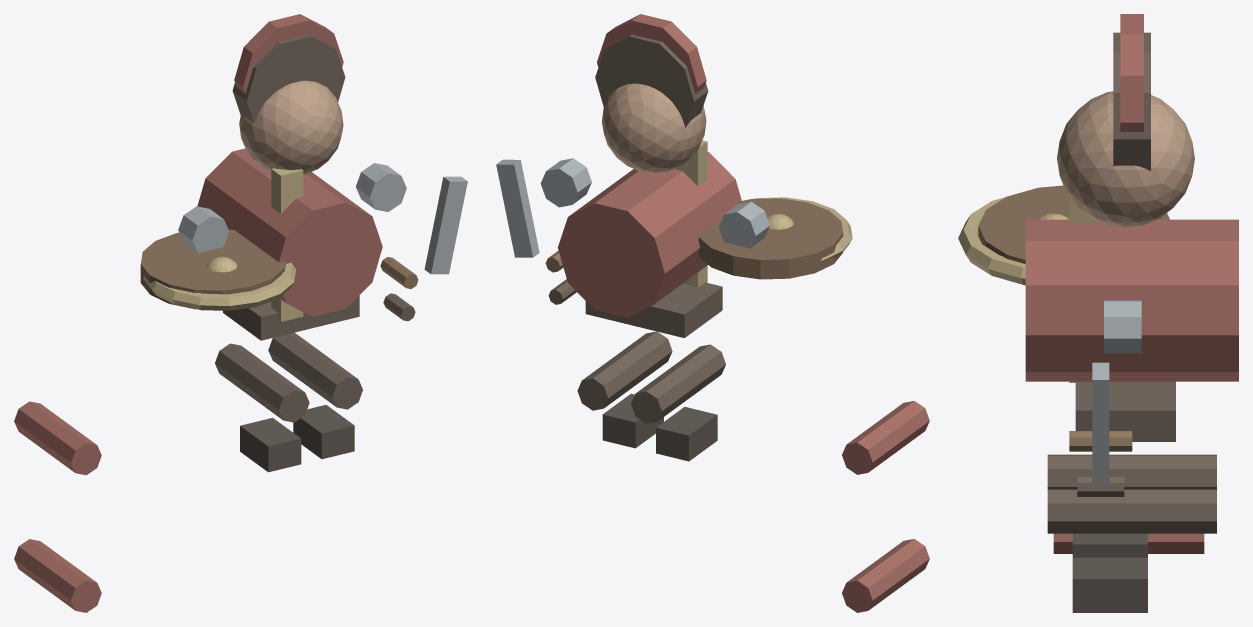
File: magar_infantry.glb
3 renders of one model, left to right at view 1: azimuth 30°, elevation 25°; view 2: azimuth 150°, elevation 25°; view 3: azimuth 270°, elevation 25°, orthographic. The views are drawn at different scales.
Visible parts, largest first — view 1: magar_infantry_00, magar_infantry_01, magar_infantry_17, magar_infantry_02, magar_infantry_06, magar_infantry_08, magar_infantry_12, magar_infantry_10, magar_infantry_03, magar_infantry_18, magar_infantry_07, magar_infantry_14 (+6 smaller); view 2: magar_infantry_00, magar_infantry_17, magar_infantry_01, magar_infantry_02, magar_infantry_06, magar_infantry_08, magar_infantry_05, magar_infantry_12, magar_infantry_10, magar_infantry_03, magar_infantry_07, magar_infantry_14 (+5 smaller); view 3: magar_infantry_00, magar_infantry_01, magar_infantry_08, magar_infantry_06, magar_infantry_05, magar_infantry_09, magar_infantry_17, magar_infantry_03, magar_infantry_02, magar_infantry_14, magar_infantry_18, magar_infantry_13 (+5 smaller).
Boxes of the visible parts, x1,y1,x2,y2 form: magar_infantry_00: (197,148,382,316); magar_infantry_01: (239,80,343,174); magar_infantry_17: (140,229,285,309); magar_infantry_02: (232,34,345,122); magar_infantry_06: (215,343,309,422); magar_infantry_08: (268,332,362,409); magar_infantry_12: (14,401,101,475); magar_infantry_10: (14,539,101,612); magar_infantry_03: (234,14,343,93); magar_infantry_18: (143,262,295,310); magar_infantry_07: (240,417,301,472); magar_infantry_14: (424,176,467,274); magar_infantry_00: (557,152,742,317); magar_infantry_17: (698,198,843,279); magar_infantry_01: (602,83,706,173); magar_infantry_02: (595,34,708,127); magar_infantry_06: (631,344,725,423); magar_infantry_08: (577,331,672,410); magar_infantry_05: (585,282,722,337); magar_infantry_12: (842,401,929,474); magar_infantry_10: (842,539,929,612); magar_infantry_03: (597,14,706,93); magar_infantry_07: (656,407,717,461); magar_infantry_14: (496,159,539,257); magar_infantry_00: (1025,219,1238,381); magar_infantry_01: (1057,91,1194,226); magar_infantry_08: (1047,489,1216,533); magar_infantry_06: (1047,454,1216,489); magar_infantry_05: (1075,381,1175,441); magar_infantry_09: (1072,557,1147,612); magar_infantry_17: (978,185,1169,285); magar_infantry_03: (1120,14,1143,131); magar_infantry_02: (1113,32,1150,170); magar_infantry_14: (1092,362,1109,484); magar_infantry_18: (958,197,1025,284); magar_infantry_13: (1104,300,1141,353).
Size of the model in its own units: 2 by 2.39 by 0.895.
